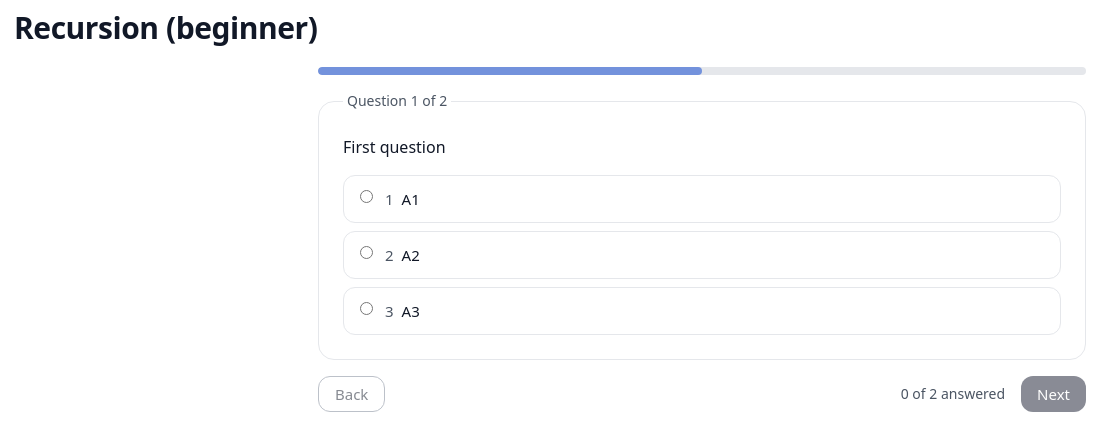
Test: QuizRunner › offers Submit quiz only on the last question, disabled until every question is answered, and never shows answers
Expected: the button "Submit quiz" is not shown
Click the radio button labelled "A2".
click(366, 252)  # box [360,246,373,259]
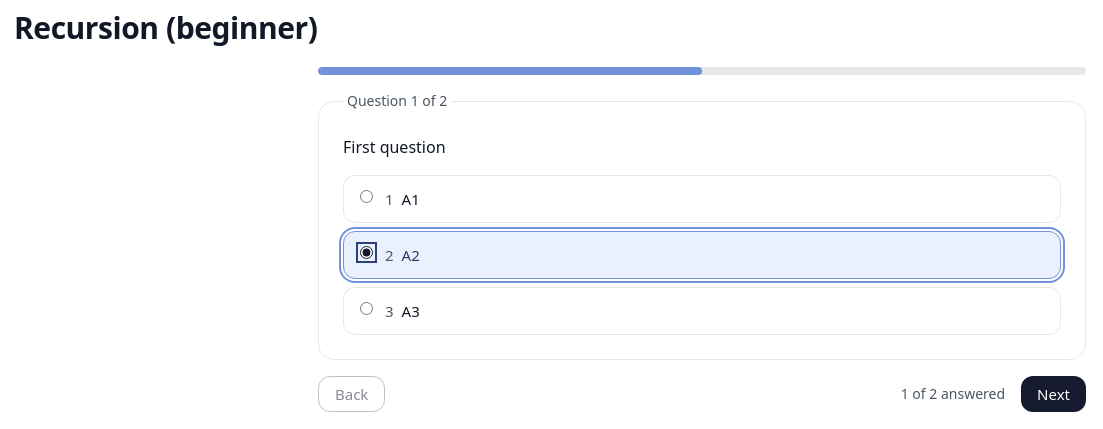
Click the button "Next".
click(1054, 394)  # box [1021,376,1086,412]
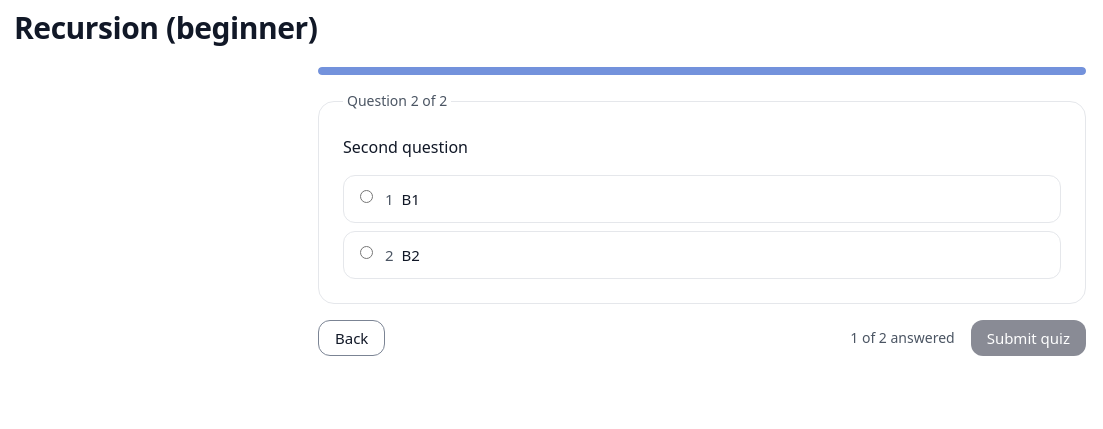
Now the text "1 of 2 answered" is shown, box [850,328,955,348]
Now the button "Submit quiz" is disabled, box [971,320,1086,356]
Click the radio button labelled "B1".
click(366, 196)  # box [360,190,373,203]
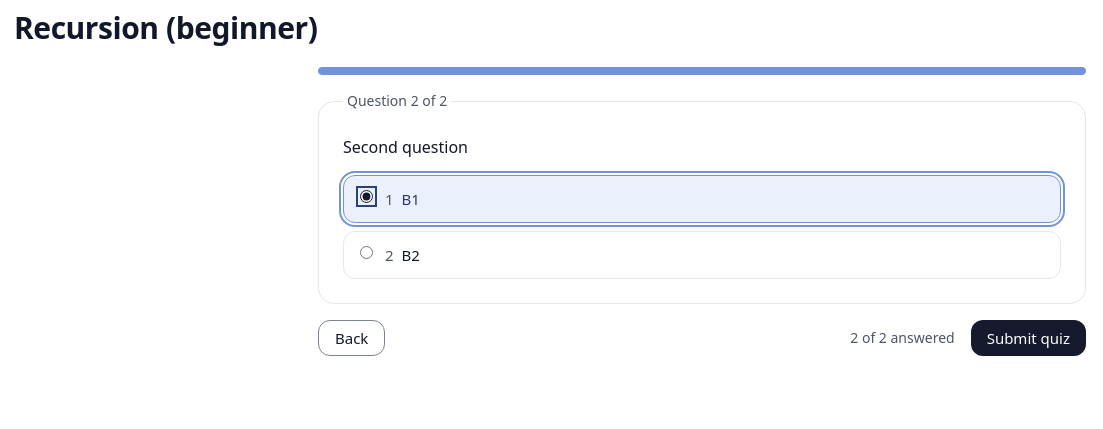
Now the button "Submit quiz" is enabled, box [971,320,1086,356]
